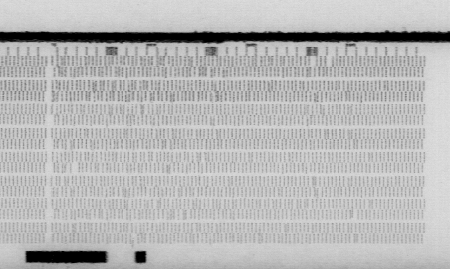Broken hole: (324, 54, 337, 69), (307, 55, 320, 68)
Oblique printing: (53, 55, 232, 222), (63, 220, 157, 248), (306, 176, 321, 199), (362, 197, 375, 210), (252, 232, 265, 245), (263, 78, 275, 92), (349, 209, 361, 222), (278, 221, 291, 233), (309, 91, 320, 105)
